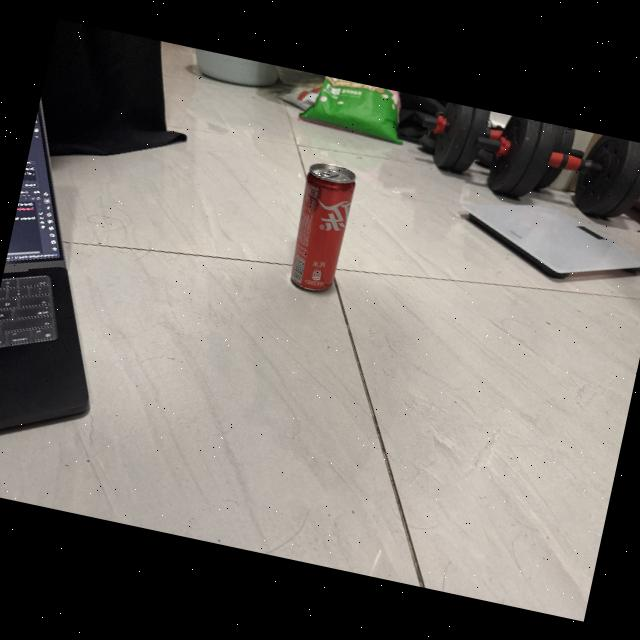Cola: (270, 152, 366, 302)
